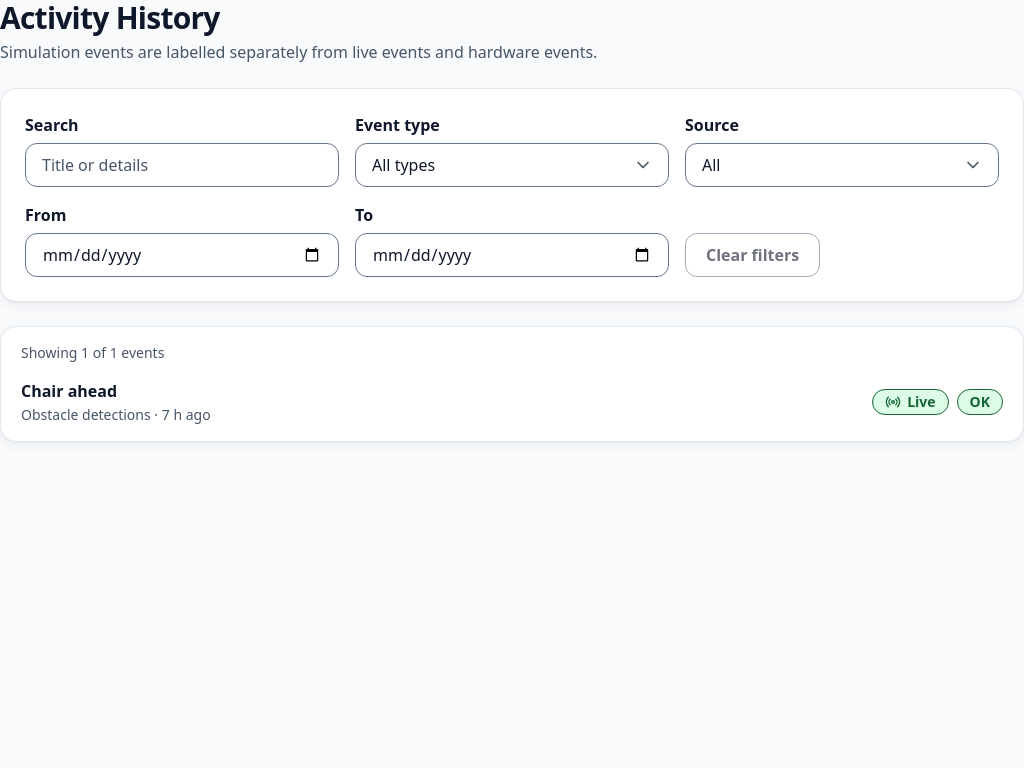
Scenario: History page › opens a detail dialog with the JSON details
Click the button "Chair ahead Obstacle detections · 7 h ago Live OK" at (69, 391), box [1, 363, 1023, 441]
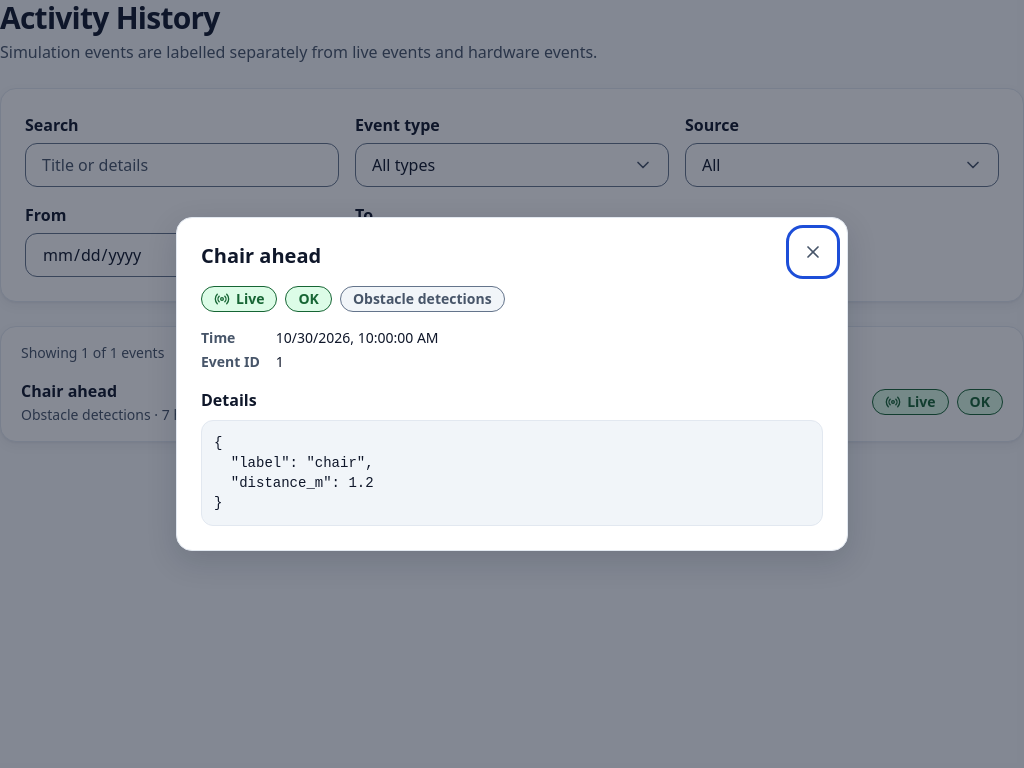
Check: the text named "Event details as JSON" shows "\"distance_m\": 1.2", box [214, 435, 374, 511]
